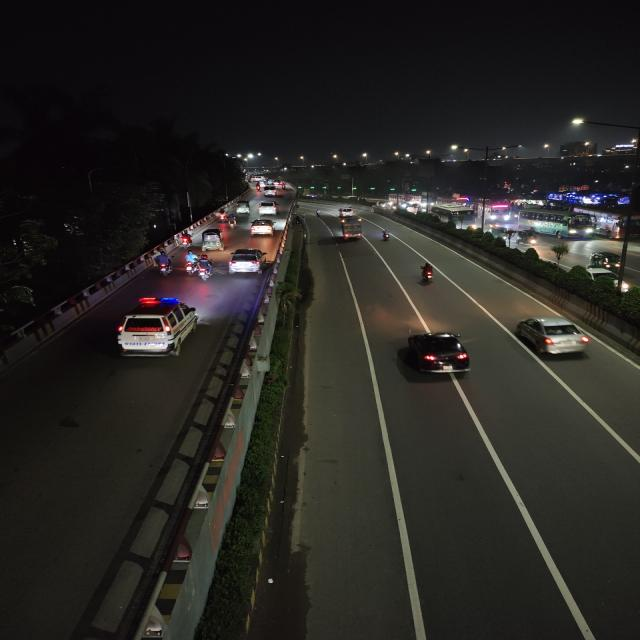bus: (520, 209, 594, 239), (576, 207, 639, 240), (432, 206, 476, 232), (484, 202, 513, 222)
car: (113, 298, 205, 360), (393, 327, 477, 379), (512, 313, 592, 361), (228, 247, 270, 274), (249, 217, 276, 237), (257, 200, 280, 216), (337, 205, 356, 217), (262, 187, 278, 197)
cng: (588, 251, 622, 271), (199, 227, 226, 252), (236, 200, 252, 214)
motorcycle: (189, 256, 216, 282), (414, 262, 439, 288), (151, 252, 175, 278), (183, 250, 198, 270), (178, 231, 194, 249), (223, 214, 238, 230), (379, 229, 394, 243), (313, 208, 322, 218)
truck: (340, 218, 366, 242)
